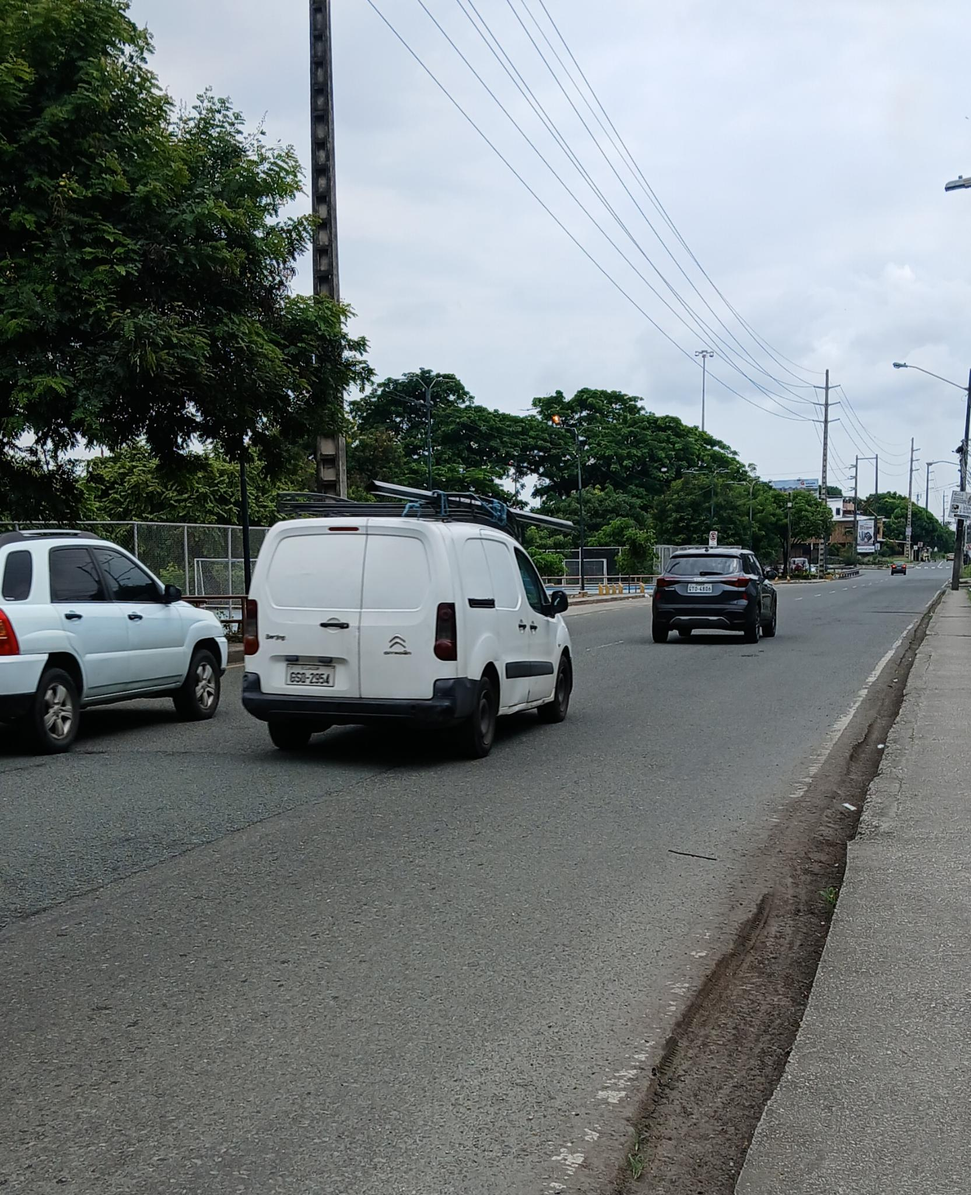license_plate: (285, 664, 336, 687), (687, 584, 714, 593)
